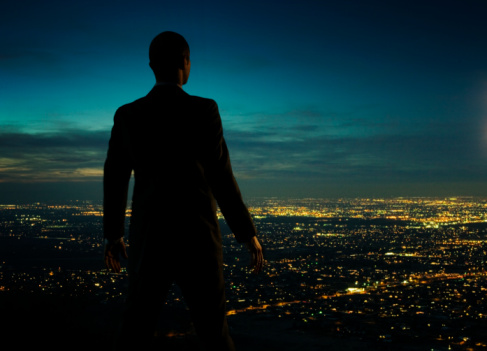em pe: (92, 18, 252, 344)
